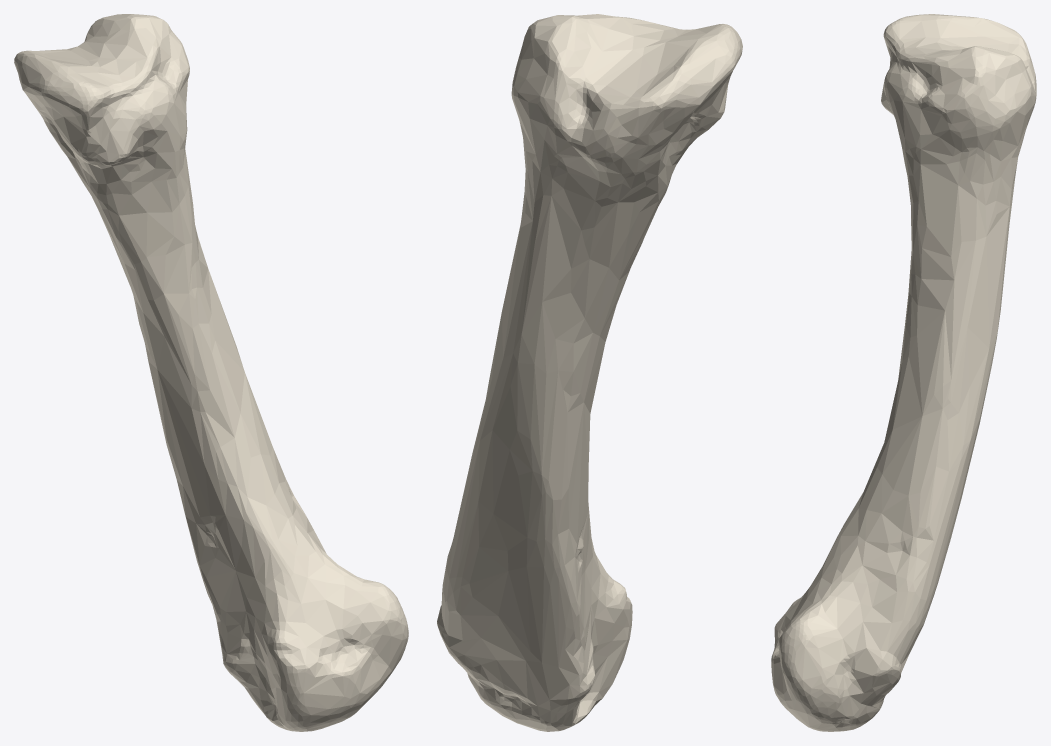
Rendered from left_metacarpal_2.glb.
3 views of the same model, side by side, from view 1: azimuth 30°, elevation 25°; view 2: azimuth 150°, elevation 25°; view 3: azimuth 270°, elevation 25° (orthographic). The views are drawn at different scales.
Visible parts, largest first — view 1: left_metacarpal_2; view 2: left_metacarpal_2; view 3: left_metacarpal_2.
Part boxes in pixels (x1,y1,x2,y2): left_metacarpal_2: (14, 14, 408, 731); left_metacarpal_2: (437, 14, 742, 731); left_metacarpal_2: (771, 14, 1036, 731).
Size of the model in its own units: 0.0311 by 0.0682 by 0.0259.
